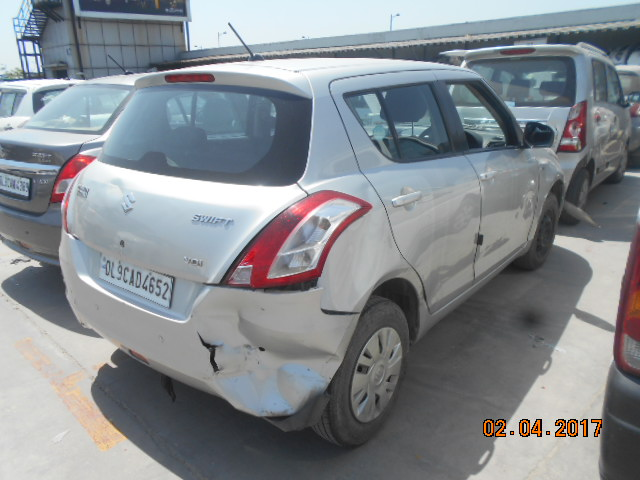Dent: (229, 307, 327, 398)
Tear: (193, 326, 225, 381)
